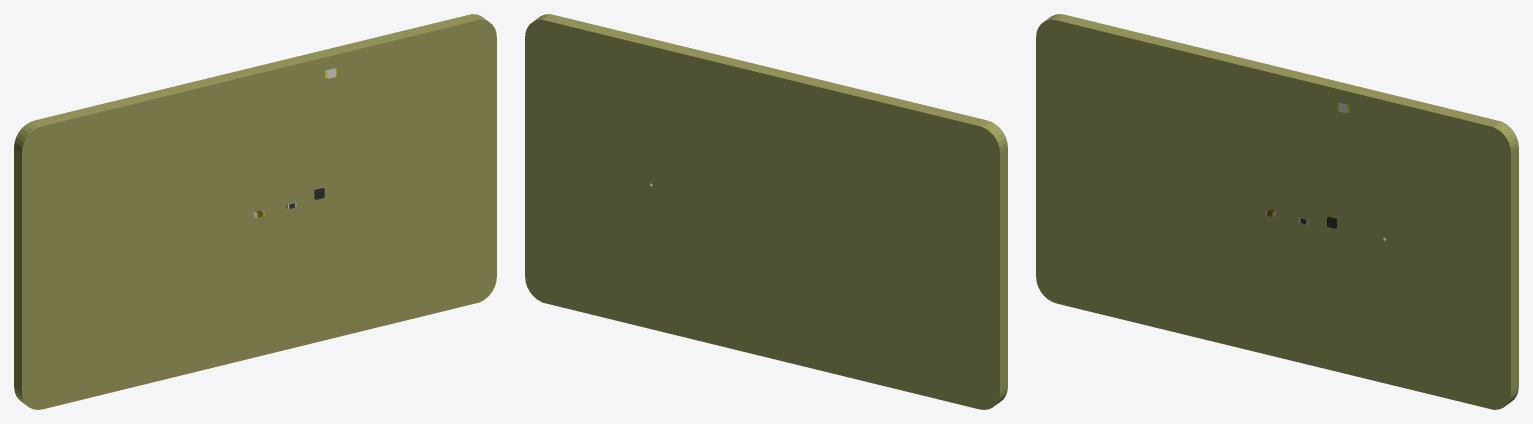
Rendered from OBJ_PCB_pcb-card-update.obj.
The picture shows the model from 3 angles, left to right: view 1: azimuth 30°, elevation 25°; view 2: azimuth 150°, elevation 25°; view 3: azimuth 330°, elevation 25°; orthographic projection.
Size of the model in its own units: 349 by 199 by 13.18.
